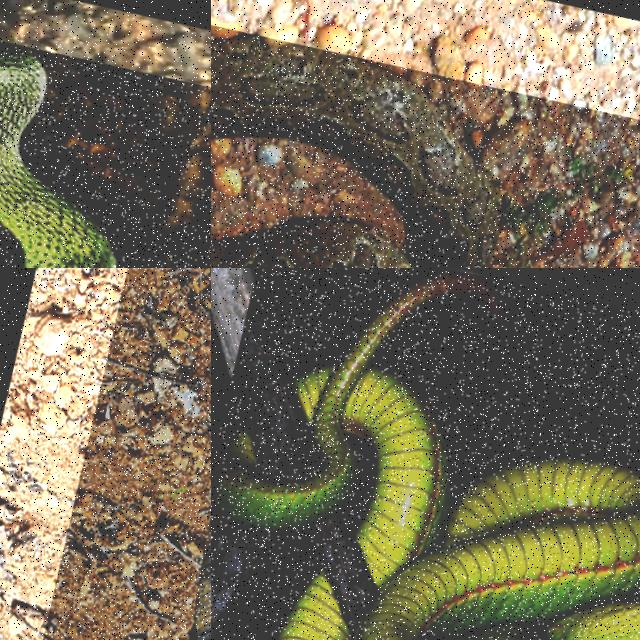Chrysopelea ornata: (0, 41, 116, 267)
Daboia siamensis: (211, 36, 498, 267)
Ophiophagus hannah: (189, 516, 210, 639)
Trimeresurus: (211, 272, 639, 639)
